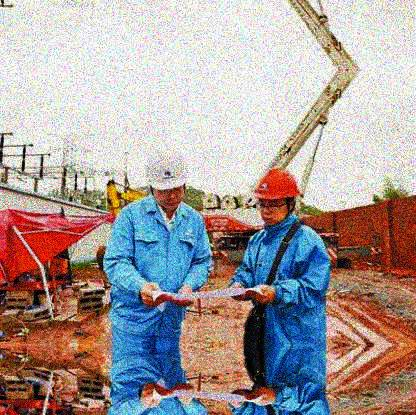helmet: (143, 146, 191, 211), (253, 168, 304, 227)
